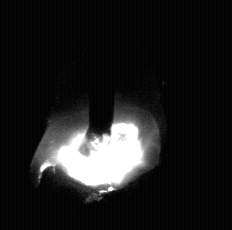arame: (90, 0, 115, 143)
poca: (39, 0, 162, 230)
